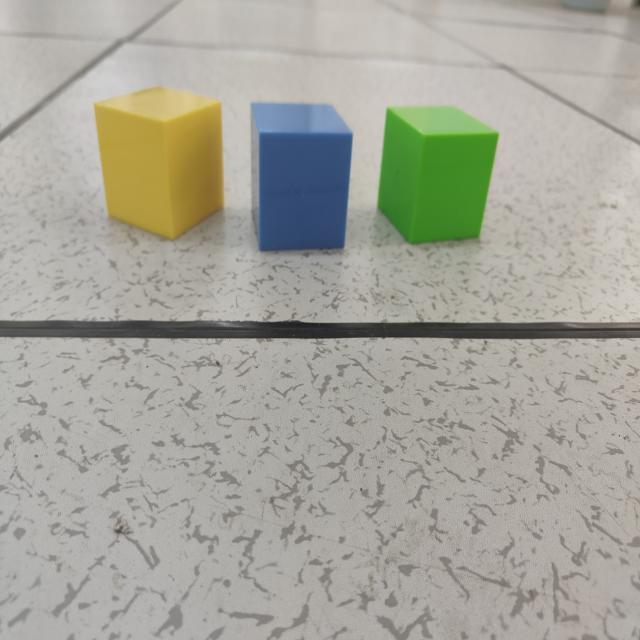blue: (250, 102, 354, 256)
green: (377, 106, 500, 246)
yellow: (93, 88, 225, 241)
